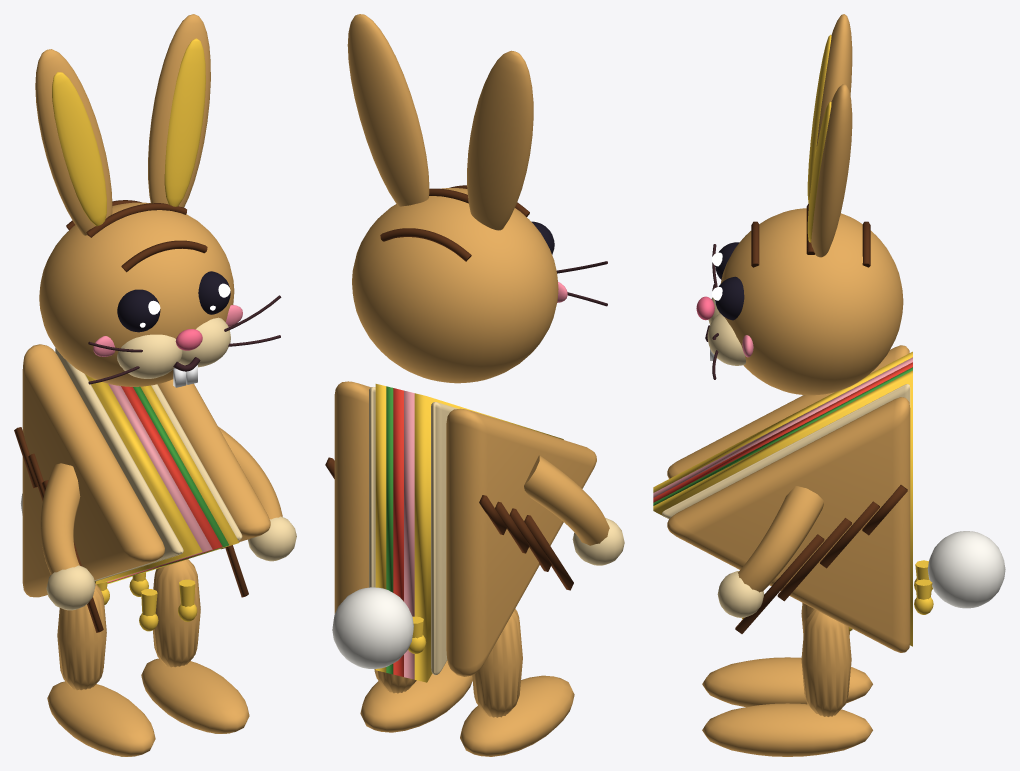
Rendered from paninikanin_c.glb.
3 renders of one model, left to right at view 1: azimuth 30°, elevation 25°; view 2: azimuth 150°, elevation 25°; view 3: azimuth 270°, elevation 25°, orthographic. The views are drawn at different scales.
Visible parts, largest first — view 1: hode, kropp, bein_hf, bein_vf, vinge_v, vinge_h; view 2: kropp, hode, bein_vf, hale, vinge_v, bein_hf; view 3: kropp, hode, bein_hf, vinge_h, bein_vf, hale.
Part boxes in pixels (x1,y1,x2,y2): hode: [35, 14, 281, 387]; kropp: [14, 344, 270, 632]; bein_hf: [141, 559, 249, 733]; bein_vf: [47, 583, 155, 756]; vinge_v: [40, 463, 95, 610]; vinge_h: [218, 426, 296, 561]; kropp: [325, 381, 596, 682]; hode: [347, 14, 607, 383]; bein_vf: [460, 608, 574, 756]; hale: [332, 587, 413, 668]; vinge_v: [524, 455, 624, 565]; bein_hf: [360, 660, 472, 732]; kropp: [653, 345, 933, 652]; hode: [696, 14, 903, 395]; bein_hf: [702, 608, 872, 756]; vinge_h: [717, 486, 823, 617]; bein_vf: [702, 603, 872, 706]; hale: [927, 531, 1005, 608].
Bounding box in the file's own units: 0.73 × 1.92 × 0.905.
